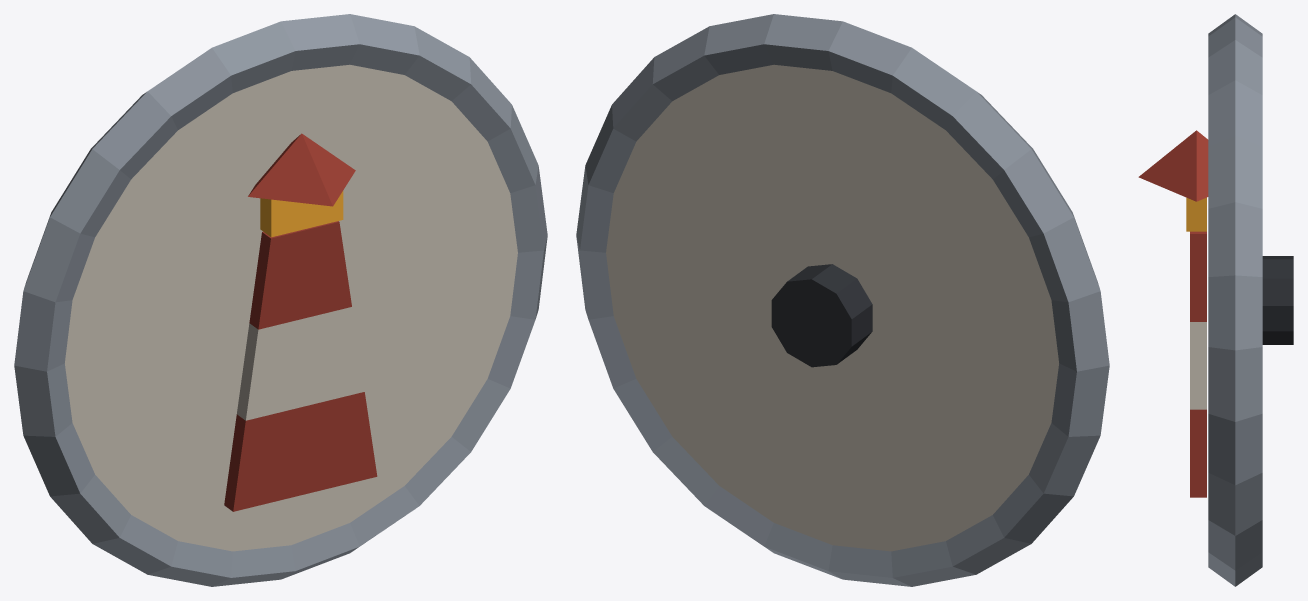
The model's file is GearCoreShield.obj.
The picture shows the model from 3 angles, left to right: view 1: azimuth 30°, elevation 25°; view 2: azimuth 150°, elevation 25°; view 3: azimuth 270°, elevation 25°; orthographic projection. The views are drawn at different scales.
Parts seen in each view (by area): view 1: GearCoreShield; view 2: GearCoreShield; view 3: GearCoreShield.
Part boxes in pixels (x1,y1,x2,y2): GearCoreShield: (14,14,547,586); GearCoreShield: (576,14,1109,586); GearCoreShield: (1138,14,1293,586).
Size of the model in its own units: 0.444 by 0.444 by 0.12.
